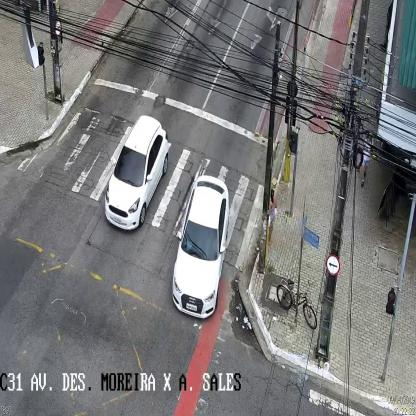bicycle: (277, 279, 317, 331)
car: (172, 175, 228, 320), (104, 115, 167, 231)
person: (269, 189, 277, 244)
